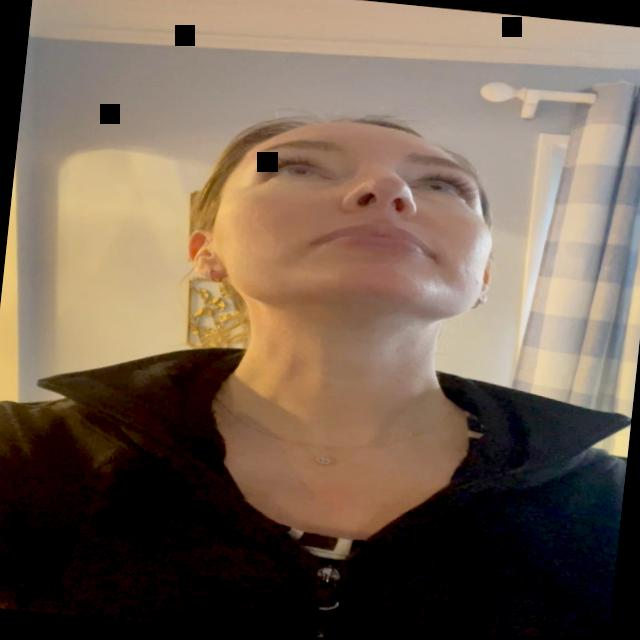NO-Mask: (176, 97, 508, 356)
